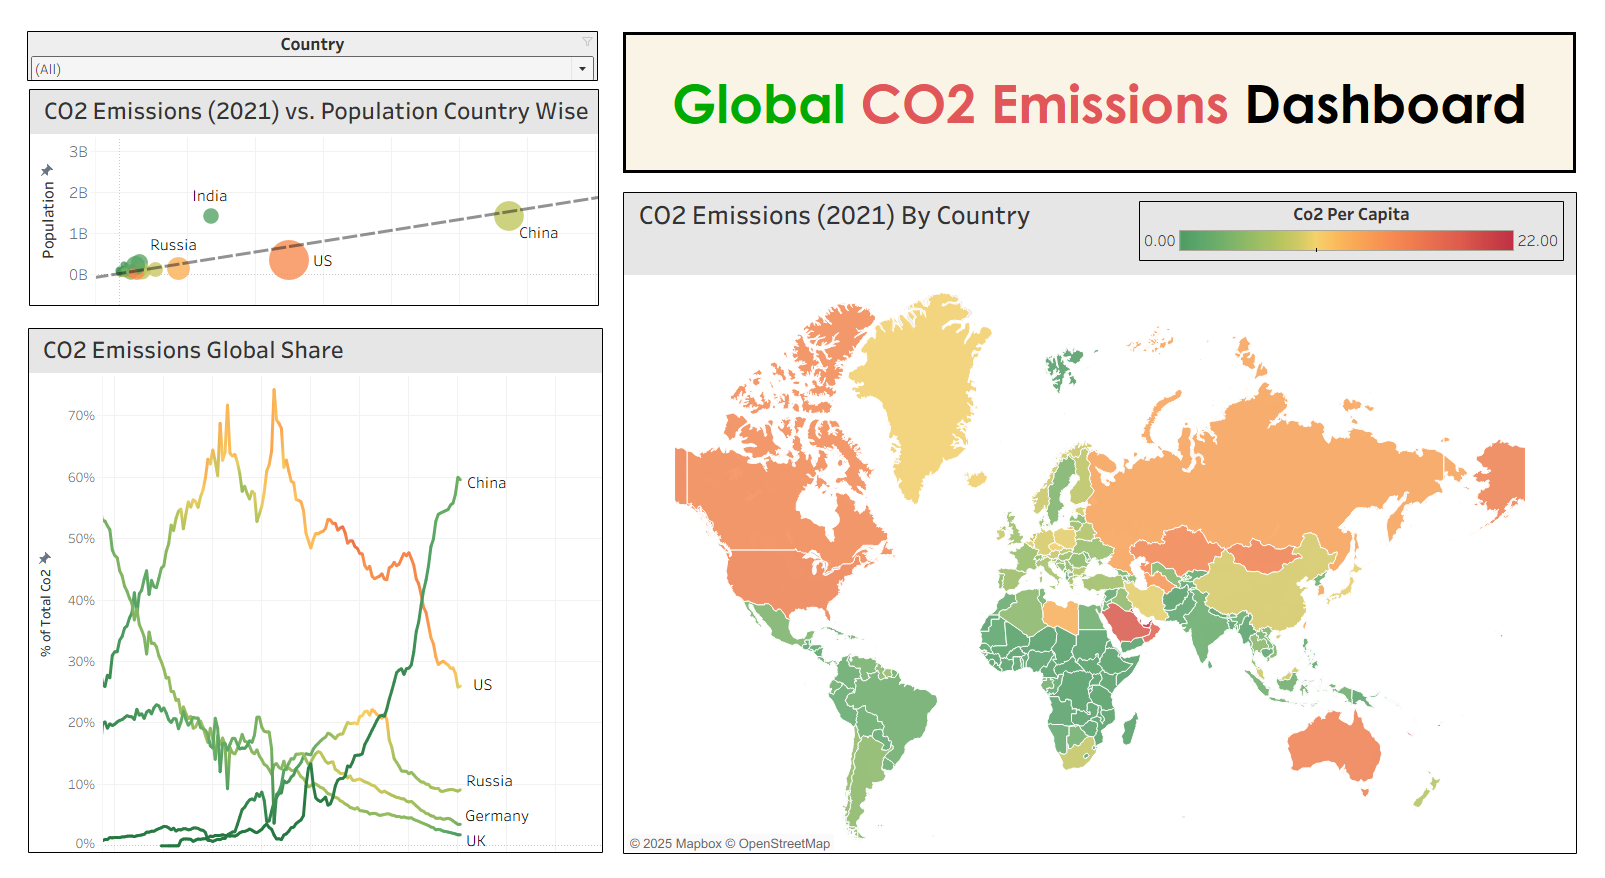

The dashboard page shown, as its layout file describes it:
{"tool":"tableau","page":{"name":"Global Co2 Emissions Dashboard","canvas":[1592,851],"ordinal":0},"visuals":[{"type":"filter","title":"Scatter Plot","param":"[federated.1lxviwv0kkfapg1cyzp3n0karw8o].[none:Country (copy)_322288851286919987","box":[22,10,571,50]},{"type":"text","box":[618,11,953,141]},{"type":"worksheet","title":"Scatter Plot","mark":"Circle","rows":["population"],"cols":["co2"],"box":[22,66,574,221]},{"type":"legend","title":"Line Chart","param":"[federated.1lxviwv0kkfapg1cyzp3n0karw8o].[sum:co2_per_capita:qk]","box":[1063,102.4,220.6,48.1]},{"type":"worksheet","title":"Map Chart","mark":"Automatic","box":[616,169,958,666]},{"type":"legend","title":"Map Chart","param":"[federated.1lxviwv0kkfapg1cyzp3n0karw8o].[sum:co2_per_capita:qk]","box":[1134,180,425,60]},{"type":"parameter","param":"[Parameters].[Parameter 1]","box":[383.9,245.8,153.4,19.7]},{"type":"worksheet","title":"Line Chart","mark":"Automatic","cols":["year"],"box":[21,305,579,529]}]}

Visuals, with their boxes in screenshot pixels (x1, y1, x2, y2), scaled from the page's 1592x851 canvas onto the 1605x878 screenshot:
"Scatter Plot" filter: <region>22, 10, 598, 62</region>
text: <region>623, 11, 1584, 157</region>
"Scatter Plot" worksheet (Circle marks): <region>22, 68, 601, 296</region>
"Line Chart" legend: <region>1072, 106, 1294, 155</region>
"Map Chart" worksheet: <region>621, 174, 1587, 861</region>
"Map Chart" legend: <region>1143, 186, 1572, 248</region>
parameter: <region>387, 254, 542, 274</region>
"Line Chart" worksheet: <region>21, 315, 605, 860</region>
